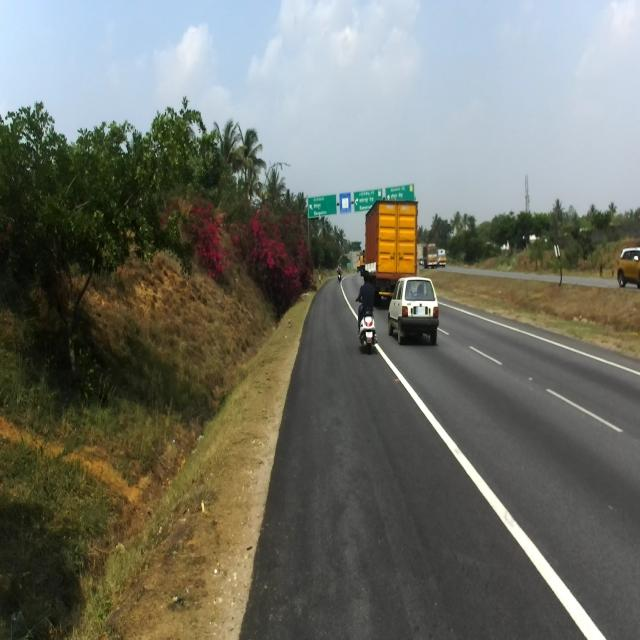car: (387, 276, 439, 345)
scooter: (355, 296, 376, 354)
truck: (362, 198, 419, 308)
